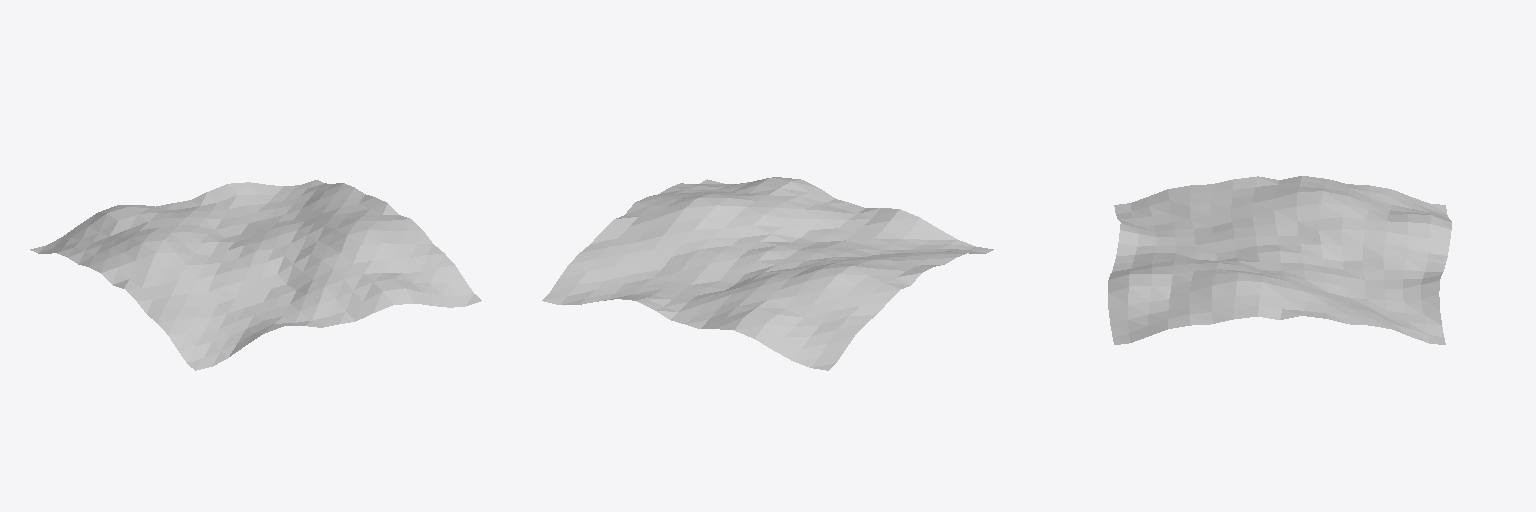
The model's file is water_000067.obj.
3 renders of one model, left to right at view 1: azimuth 30°, elevation 25°; view 2: azimuth 150°, elevation 25°; view 3: azimuth 270°, elevation 25°, orthographic.
Visible parts, largest first — view 1: Plan.003_Plan.001; view 2: Plan.003_Plan.001; view 3: Plan.003_Plan.001.
Part boxes in pixels (bbox=[...]): Plan.003_Plan.001: bbox=[30, 180, 481, 370]; Plan.003_Plan.001: bbox=[542, 177, 993, 370]; Plan.003_Plan.001: bbox=[1108, 176, 1451, 344].
Bounding box in the file's own units: 60622 × 8019 × 62704.